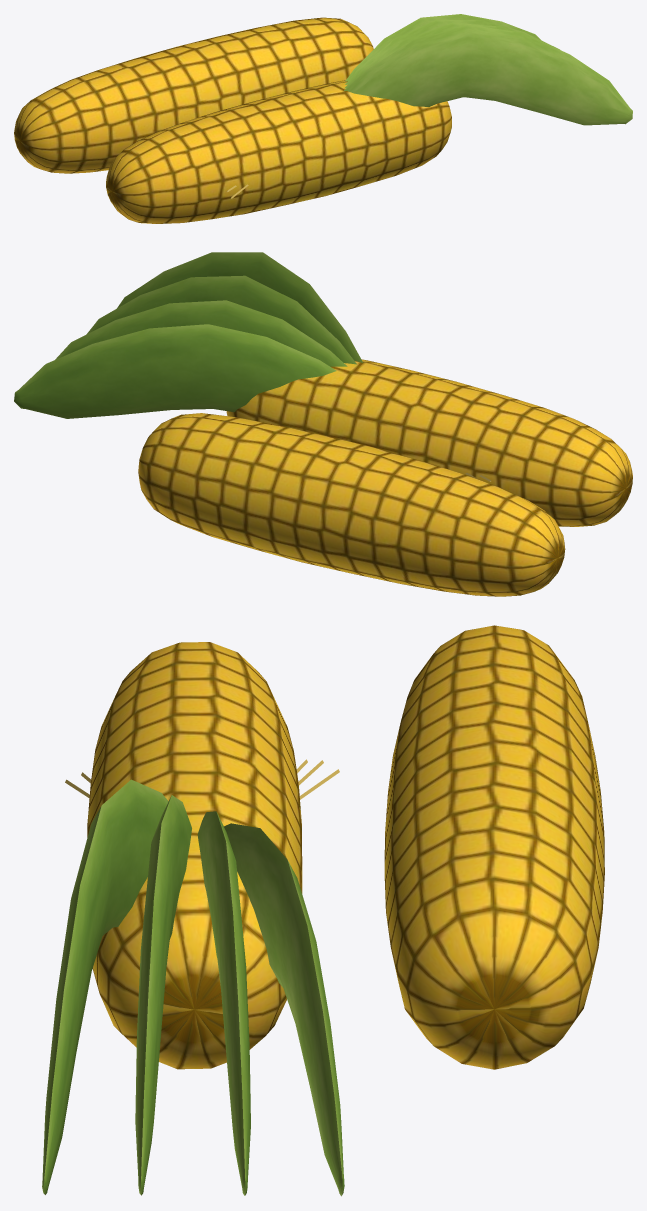
Rendered from veg_corn_cobs.glb.
3 renders of one model, top to bottom at view 1: azimuth 30°, elevation 25°; view 2: azimuth 150°, elevation 25°; view 3: azimuth 270°, elevation 25°, orthographic. The views are drawn at different scales.
Parts seen in each view (by area): view 1: veg_corn_cobs; view 2: veg_corn_cobs; view 3: veg_corn_cobs.
Boxes of the visible parts, box(x1,y1,x2,y2) form: veg_corn_cobs: box(14, 14, 632, 223); veg_corn_cobs: box(14, 252, 632, 596); veg_corn_cobs: box(42, 625, 604, 1196).
Bounding box in the file's own units: 0.2888 × 0.0845 × 0.1407.
3 materials, 2 textured.
